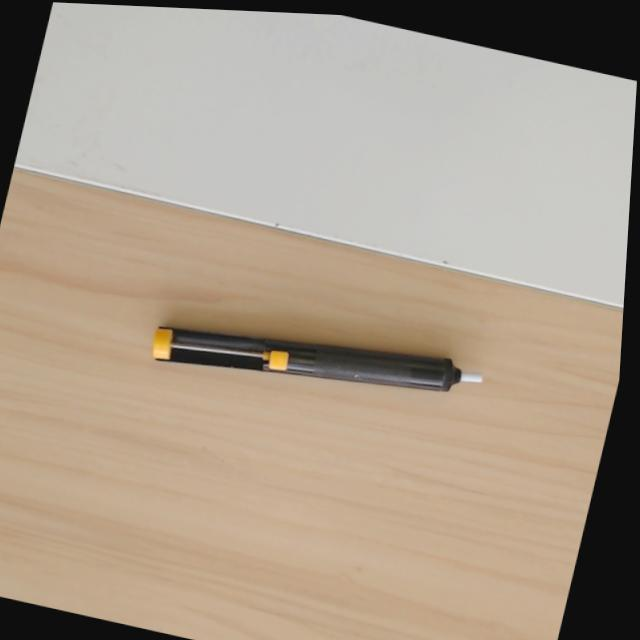Desoldering-Pump: (148, 323, 483, 395)
